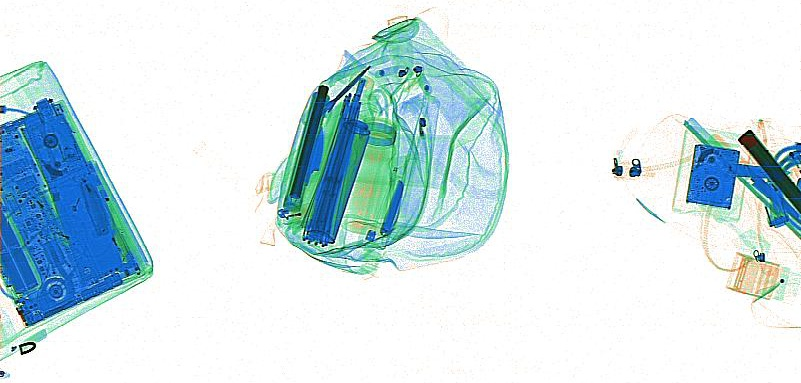knife: (24, 112, 125, 284), (710, 133, 798, 218), (290, 124, 323, 216), (81, 178, 109, 235), (379, 178, 404, 234), (717, 161, 789, 178)
lighter: (786, 150, 799, 181)
pressure: (304, 97, 377, 243)
scissors: (301, 64, 369, 136)
